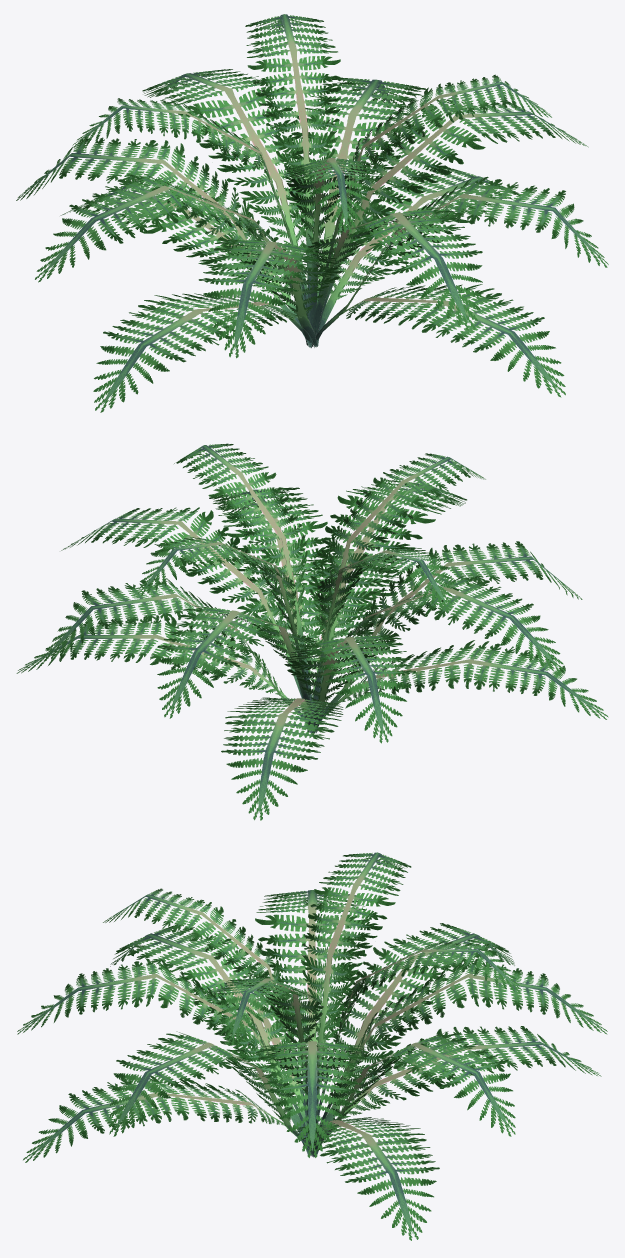
File: Fern.fbx
3 views of the same model, one above another, from view 1: azimuth 30°, elevation 25°; view 2: azimuth 150°, elevation 25°; view 3: azimuth 270°, elevation 25° (orthographic). The views are drawn at different scales.
Parts seen in each view (by area): view 1: FernLeaf.005; view 2: FernLeaf.005; view 3: FernLeaf.005.
Boxes of the visible parts, bbox=[...] form: FernLeaf.005: bbox=[16, 14, 608, 412]; FernLeaf.005: bbox=[16, 443, 608, 820]; FernLeaf.005: bbox=[17, 852, 607, 1240].
Size of the model in its own units: 39.86 by 17.23 by 39.86.
1 material, 1 textured.
